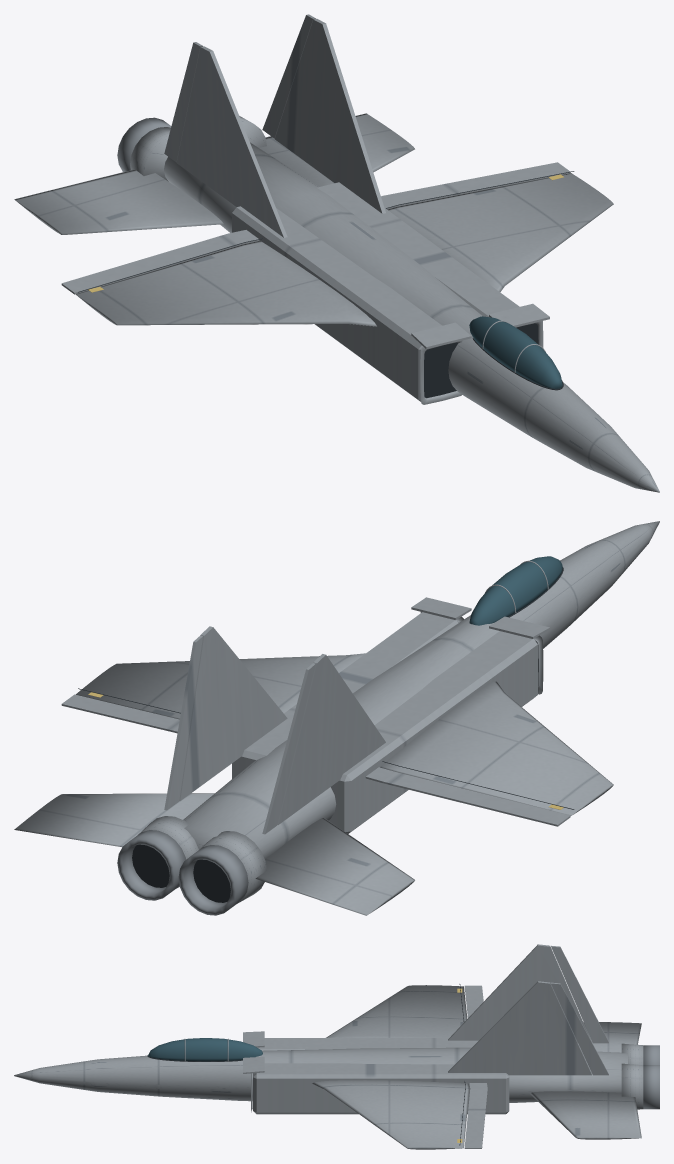
Rendered from mig-31bm.glb.
3 views of the same model, one above another, from view 1: azimuth 30°, elevation 25°; view 2: azimuth 150°, elevation 25°; view 3: azimuth 270°, elevation 25° (orthographic). The views are drawn at different scales.
Parts seen in each view (by area): view 1: airframe_static, tailplane_L, canopy, tailplane_R, elevon_L, elevon_R, rudder_2, rudder_1; view 2: airframe_static, tailplane_L, tailplane_R, canopy, elevon_L, rudder_2, rudder_1, elevon_R; view 3: airframe_static, tailplane_R, canopy, rudder_1, rudder_2, elevon_R, tailplane_L, elevon_L.
Boxes of the visible parts, x1=… form: airframe_static: x1=75, y1=18, x2=659, y2=492; tailplane_L: x1=14, y1=169, x2=223, y2=234; canopy: x1=469, y1=316, x2=563, y2=390; tailplane_R: x1=259, y1=113, x2=414, y2=186; elevon_L: x1=61, y1=230, x2=259, y2=294; elevon_R: x1=381, y1=162, x2=570, y2=209; rudder_2: x1=262, y1=14, x2=315, y2=138; rudder_1: x1=164, y1=42, x2=202, y2=162; airframe_static: x1=76, y1=521, x2=659, y2=915; tailplane_L: x1=255, y1=818, x2=414, y2=915; tailplane_R: x1=14, y1=793, x2=214, y2=847; canopy: x1=469, y1=556, x2=563, y2=625; elevon_L: x1=365, y1=767, x2=570, y2=826; rudder_2: x1=164, y1=635, x2=202, y2=810; rudder_1: x1=262, y1=663, x2=315, y2=834; elevon_R: x1=61, y1=694, x2=179, y2=733; airframe_static: x1=14, y1=944, x2=659, y2=1149; tailplane_R: x1=530, y1=1091, x2=641, y2=1139; canopy: x1=147, y1=1038, x2=262, y2=1061; rudder_1: x1=551, y1=945, x2=608, y2=1043; rudder_2: x1=551, y1=982, x2=608, y2=1075; elevon_R: x1=464, y1=1083, x2=487, y2=1148; tailplane_L: x1=578, y1=1022, x2=641, y2=1052; elevon_L: x1=464, y1=985, x2=483, y2=1017.
Size of the model in its own units: 13.46 by 5.28 by 22.68.
5 materials, 1 textured.
